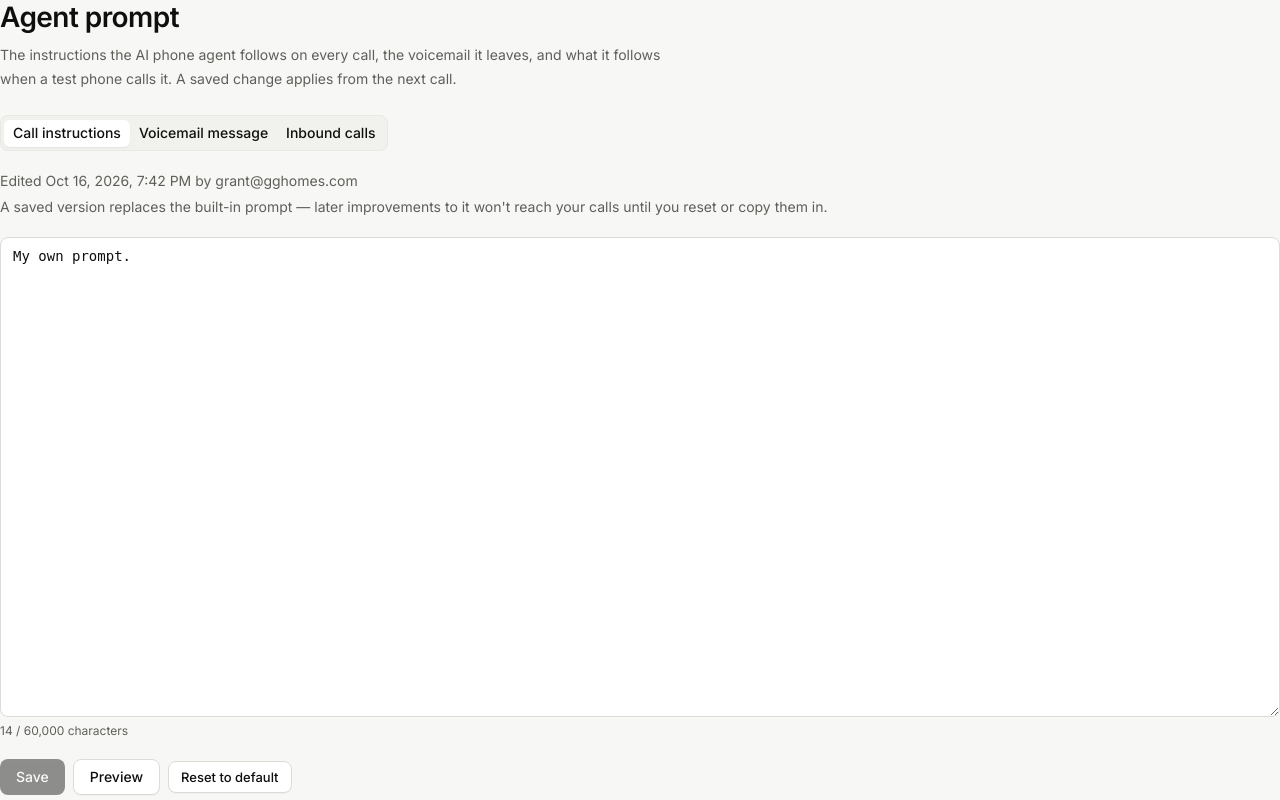
Scenario: AgentPromptPage › a reset to the default takes the status-line note away again, keeping the one by Save
The width and height of the screenshot is (1280, 800).
Click the button "Reset to default": (230, 777) [168,761,292,793]
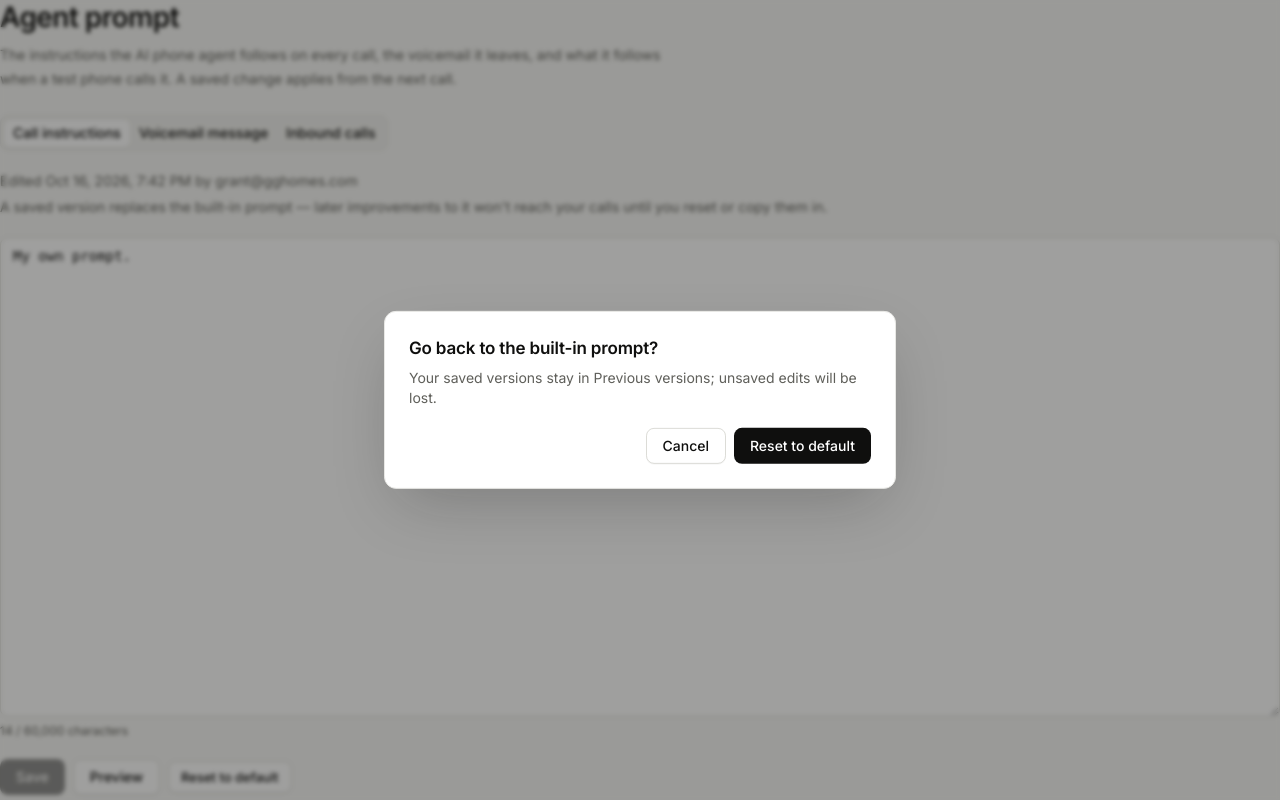
Click the button "Reset to default": (802, 446) [734,428,871,464]
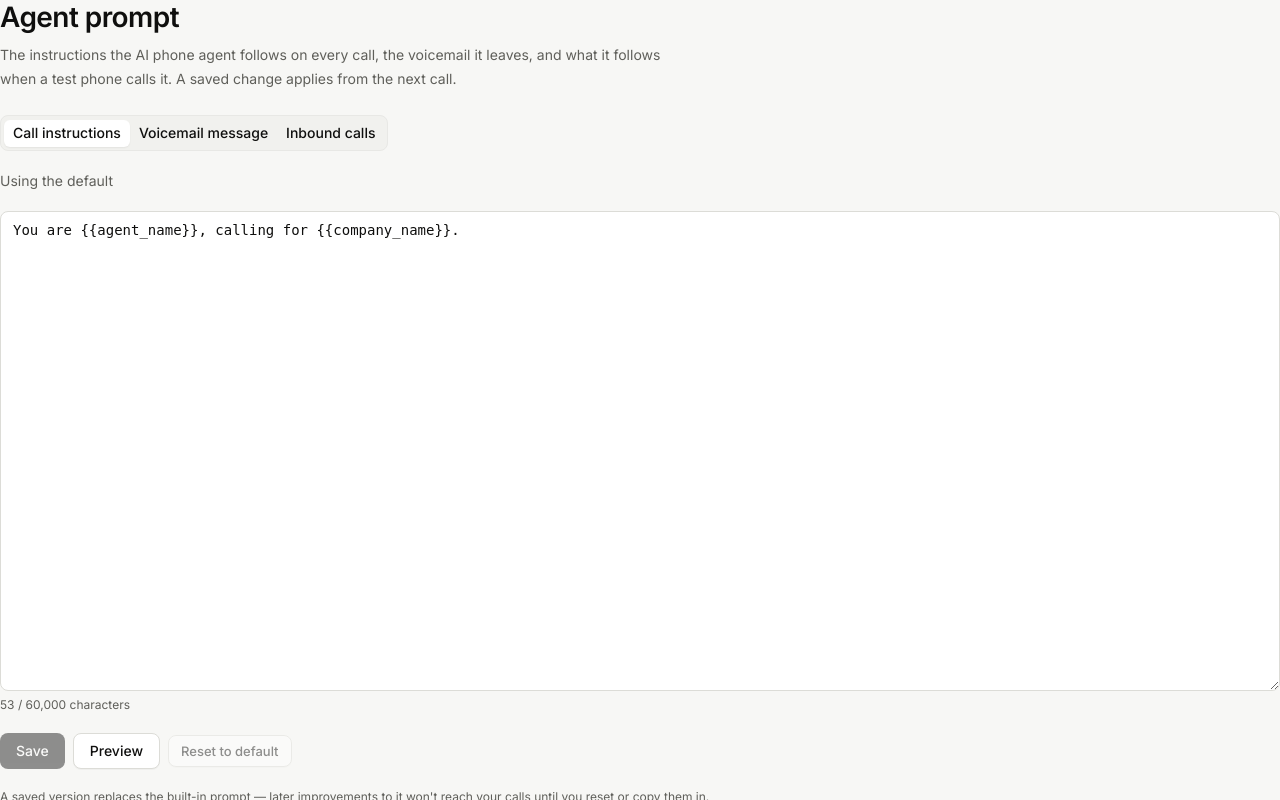
Now the text "Using the default" is shown, box [0,171,113,191]
